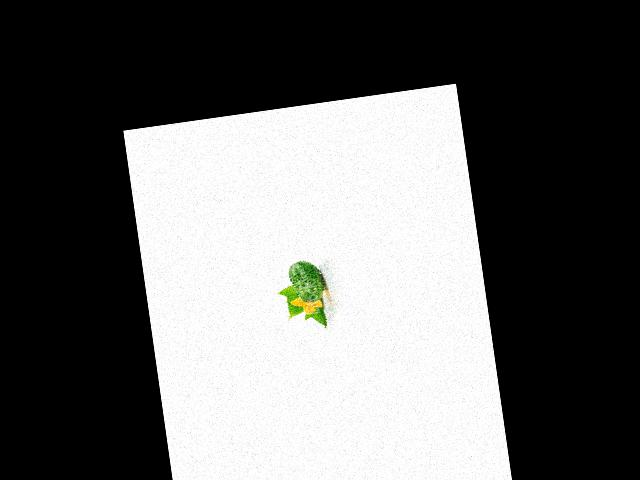cucumber: (287, 258, 326, 304)
